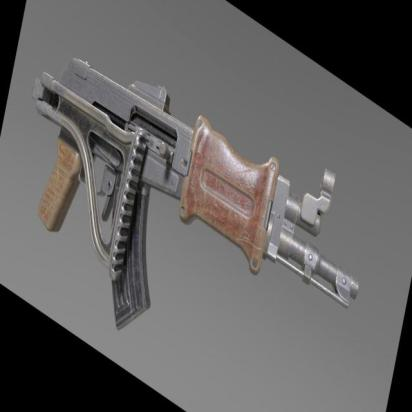Gun: (9, 16, 374, 412)
